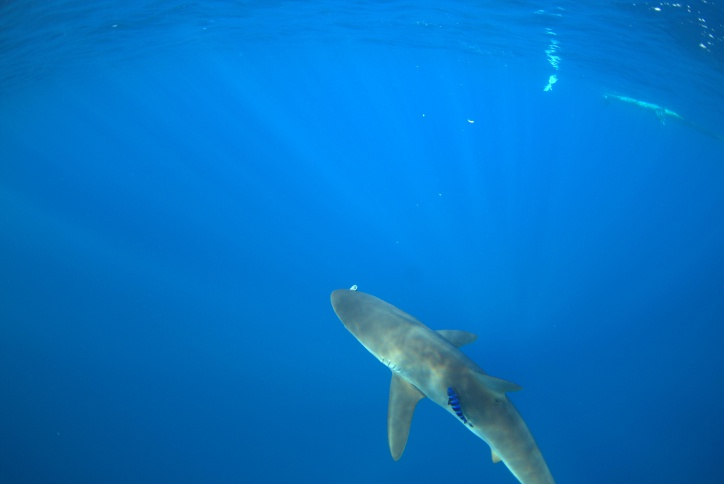Sedoso: (309, 270, 599, 484)
